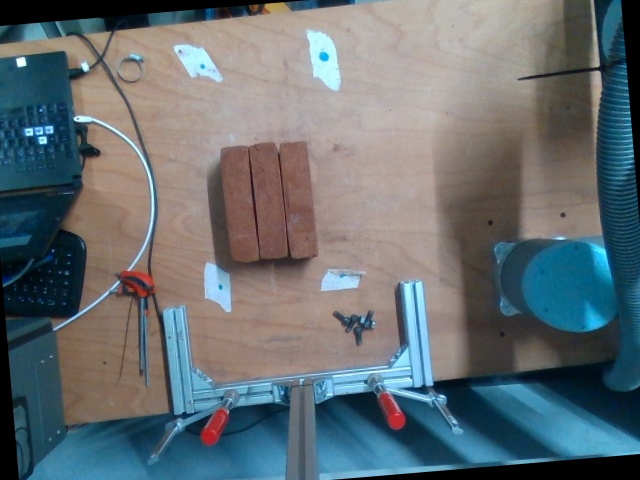brick-side: (248, 142, 289, 260), (218, 143, 258, 262), (280, 140, 317, 259)
